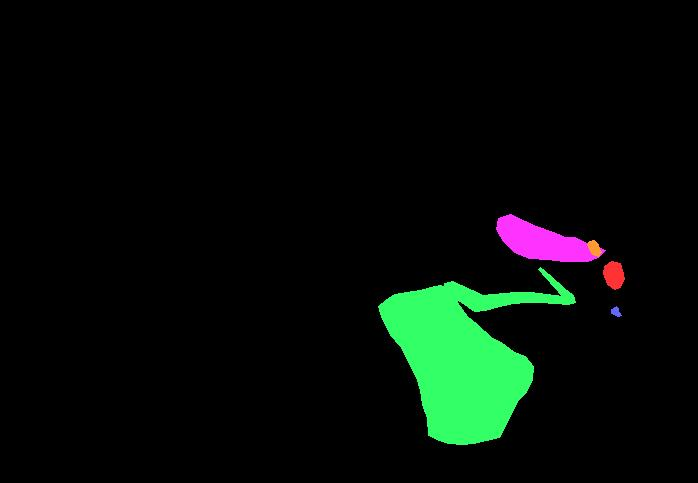Broken part: (378, 285, 533, 444), (444, 267, 575, 311)
Dent: (496, 214, 605, 261)
Missing part: (603, 261, 624, 289)
Paint chip: (587, 240, 601, 256)
Scratch: (611, 306, 621, 316)
